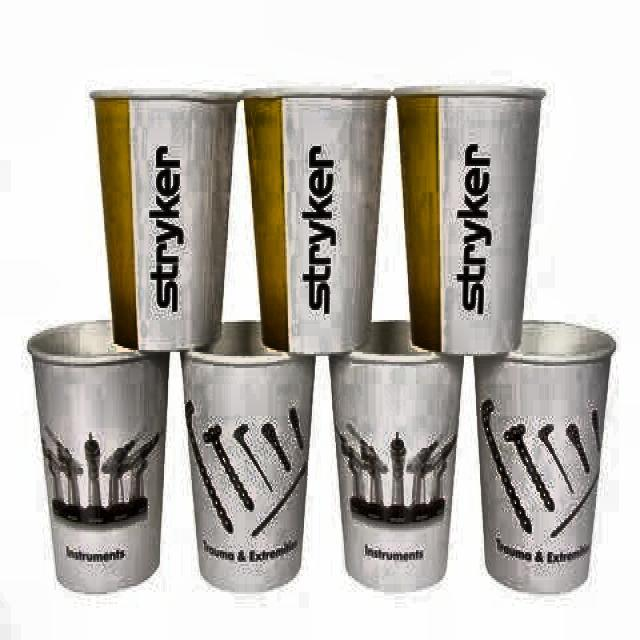Cup: (237, 68, 392, 364), (395, 72, 550, 346), (474, 299, 613, 601), (86, 72, 237, 348), (171, 309, 315, 586), (26, 315, 174, 580), (329, 302, 466, 584)
